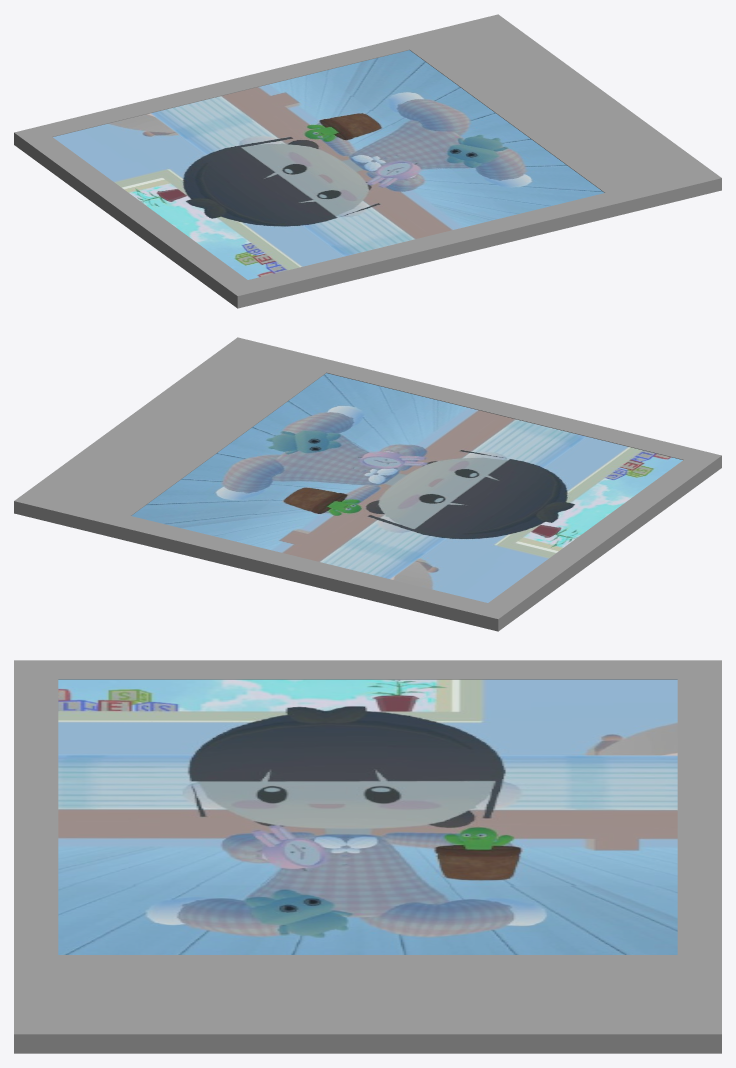
Rendered from ending_photo2.fbx.
3 renders of one model, top to bottom at view 1: azimuth 30°, elevation 25°; view 2: azimuth 150°, elevation 25°; view 3: azimuth 270°, elevation 25°, orthographic. The views are drawn at different scales.
Visible parts, largest first — view 1: pCube3; view 2: pCube3; view 3: pCube3.
Part boxes in pixels (x1=…): pCube3: x1=14, y1=14, x2=721, y2=308; pCube3: x1=14, y1=337, x2=721, y2=631; pCube3: x1=14, y1=660, x2=721, y2=1053.
Bounding box in the file's own units: 10 × 0.2442 × 8.
Materials: 2 (1 with a texture image).
